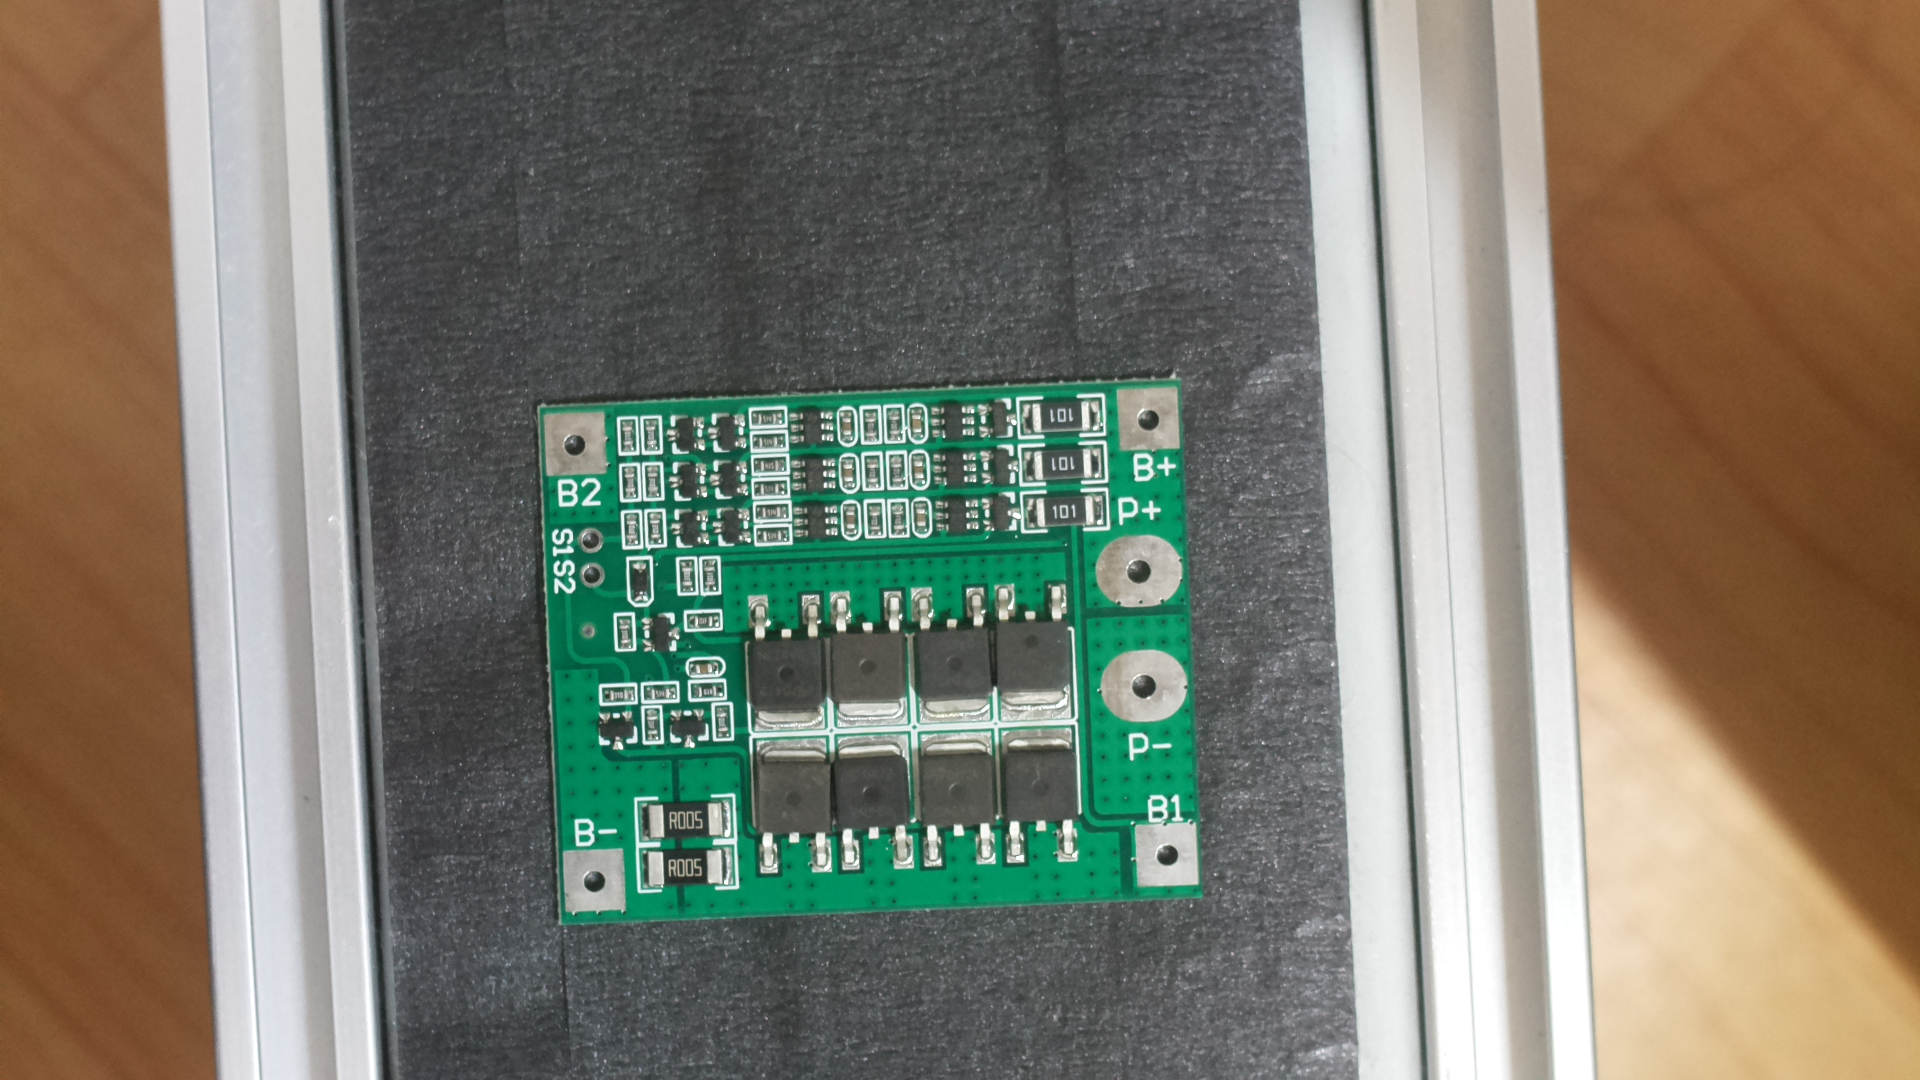C_Normal: (525, 380, 1218, 927)
